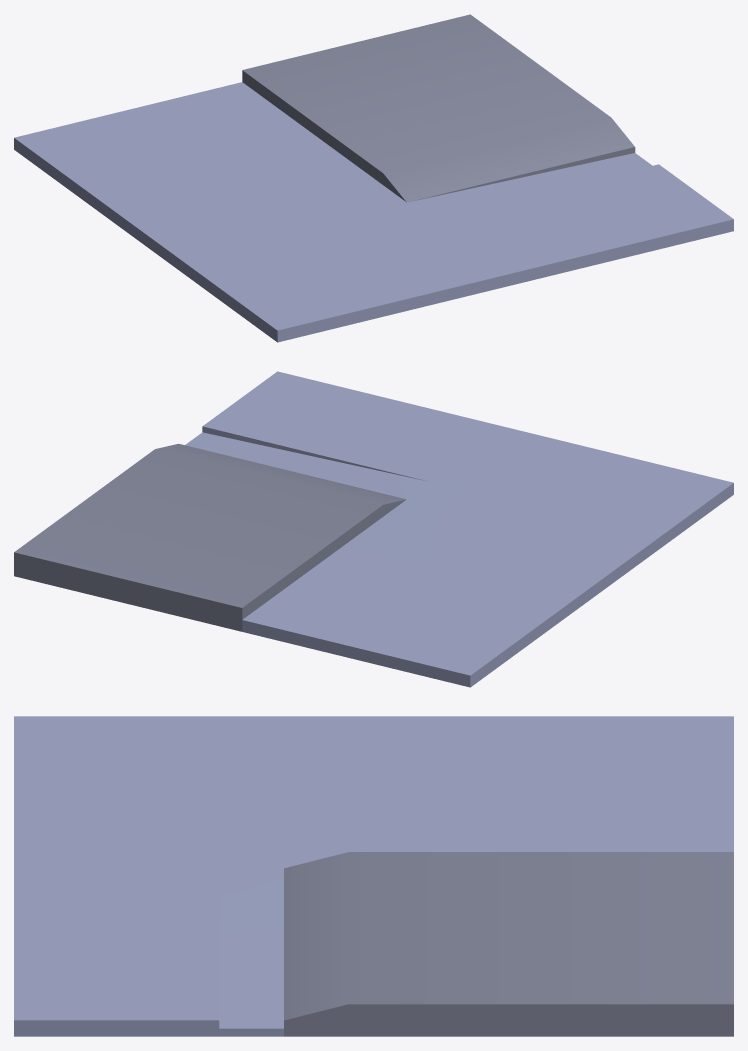
The model's file is road-curb-end.glb.
3 renders of one model, top to bottom at view 1: azimuth 30°, elevation 25°; view 2: azimuth 150°, elevation 25°; view 3: azimuth 270°, elevation 25°, orthographic. The views are drawn at different scales.
Parts seen in each view (by area): view 1: road-curb-end; view 2: road-curb-end; view 3: road-curb-end.
Part boxes in pixels (bbox=[...]): road-curb-end: bbox=[14, 14, 733, 342]; road-curb-end: bbox=[14, 371, 733, 687]; road-curb-end: bbox=[14, 716, 733, 1036].
Size of the model in its own units: 1 by 0.05 by 1.
Materials: 1 (1 with a texture image).
